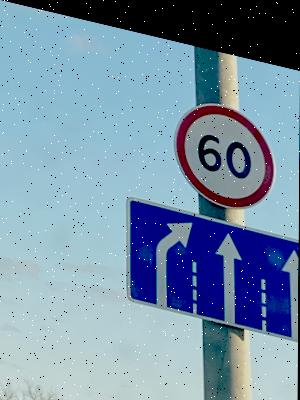Speed Limit -60-: (170, 81, 277, 206)
